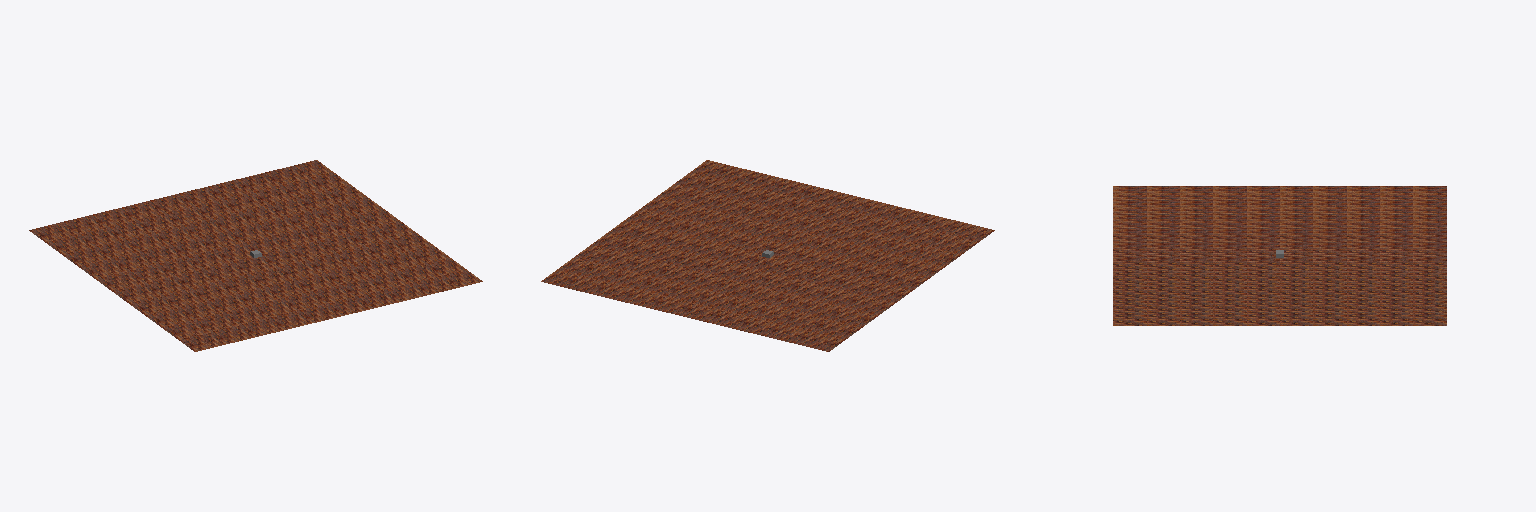
3 renders of one model, left to right at view 1: azimuth 30°, elevation 25°; view 2: azimuth 150°, elevation 25°; view 3: azimuth 270°, elevation 25°, orthographic.
Parts seen in each view (by area): view 1: Cube.002; view 2: Cube.002; view 3: Cube.002.
Part boxes in pixels (x1,y1,x2,y2): Cube.002: (29,160,482,351); Cube.002: (541,160,994,351); Cube.002: (1113,186,1446,325).
Size of the model in its own units: 80 by 2 by 80.
Materials: 3 (1 with a texture image).